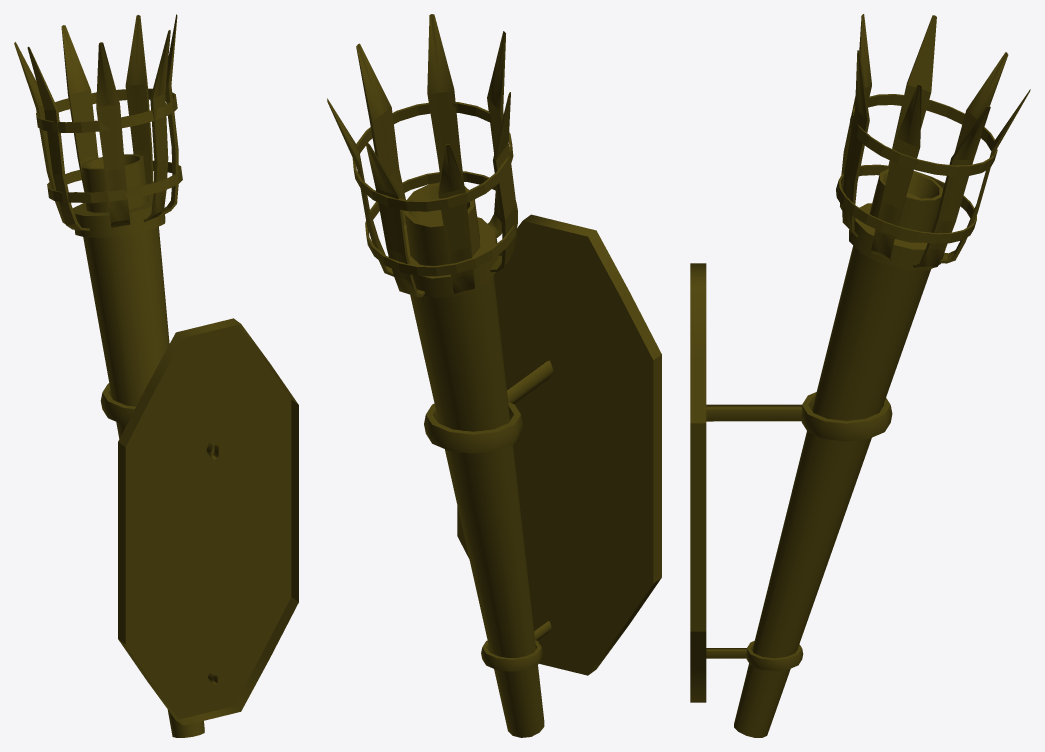
Rendered from Torch.fbx.
The picture shows the model from 3 angles, left to right: view 1: azimuth 30°, elevation 25°; view 2: azimuth 150°, elevation 25°; view 3: azimuth 270°, elevation 25°; orthographic projection. The views are drawn at different scales.
Visible parts, largest first — view 1: Torch; view 2: Torch; view 3: Torch.
Boxes of the visible parts, x1,y1,x2,y2 form: Torch: (14, 14, 298, 737); Torch: (327, 14, 661, 737); Torch: (690, 14, 1030, 737).
Size of the model in its own units: 0.3375 by 1.24 by 0.5436.
